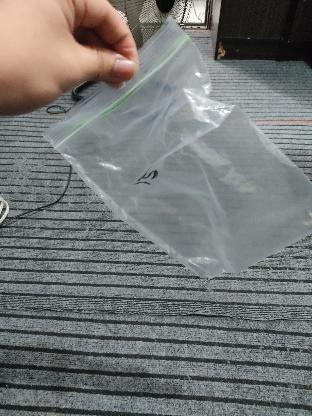Plastic Bag: (45, 20, 311, 278)
